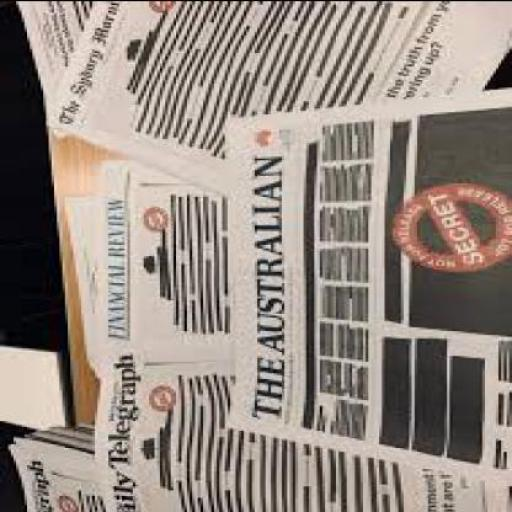paper: (228, 88, 510, 489), (44, 2, 509, 204), (92, 354, 511, 511), (82, 161, 222, 358), (11, 2, 95, 142), (59, 195, 108, 380), (8, 439, 98, 511), (0, 349, 57, 434), (11, 422, 95, 454)
